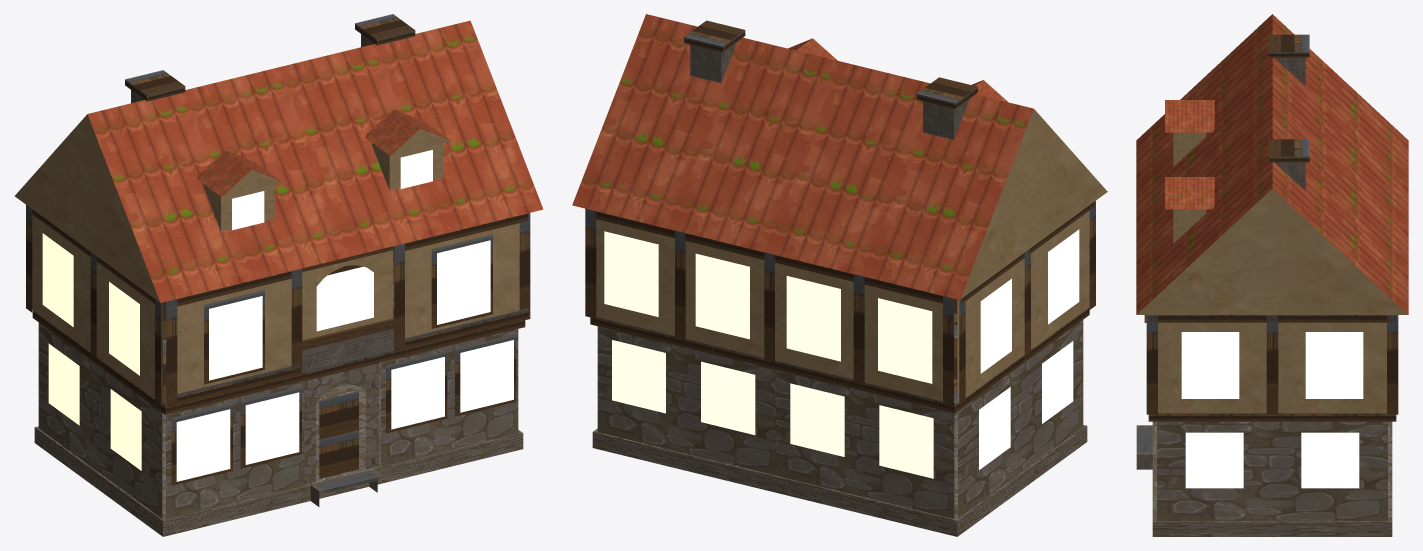
File: house_b.glb
3 views of the same model, side by side, from view 1: azimuth 30°, elevation 25°; view 2: azimuth 150°, elevation 25°; view 3: azimuth 270°, elevation 25° (orthographic). The views are drawn at different scales.
Bounding box in the file's own units: 10 × 9.6 × 6.6.
2 materials, 1 textured.
